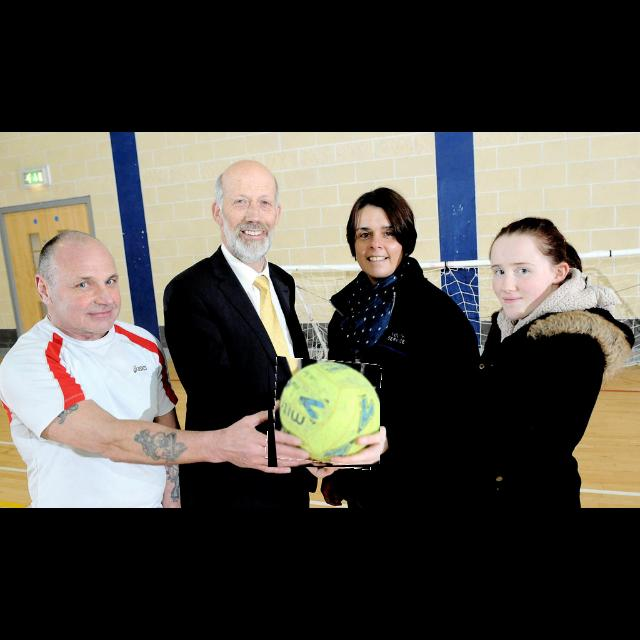Football: (268, 359, 380, 467)
